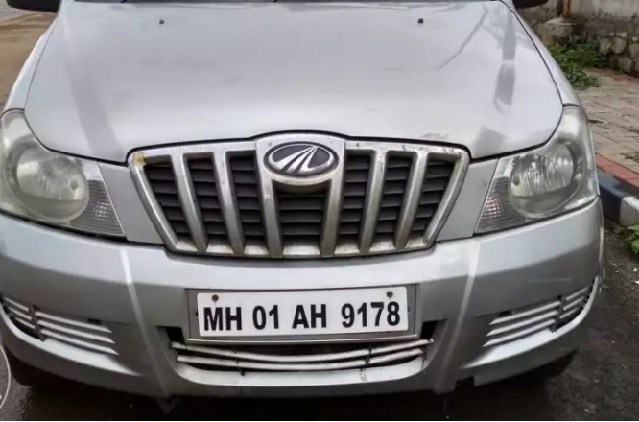licenseplate: (195, 286, 412, 338)
